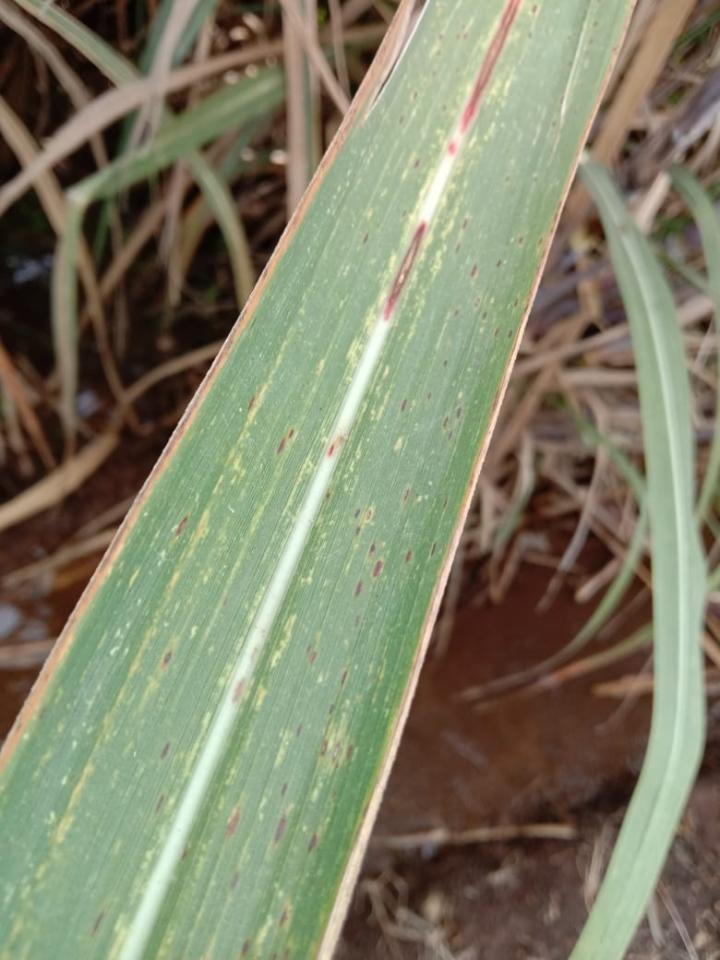RedRot: (441, 0, 525, 165), (378, 203, 437, 327)
Rust: (219, 649, 381, 873), (278, 3, 405, 246), (448, 197, 564, 351), (341, 491, 442, 605), (231, 903, 297, 959), (225, 637, 266, 710), (439, 394, 468, 450), (270, 418, 303, 459), (321, 423, 346, 473), (162, 506, 192, 546), (243, 378, 261, 425), (85, 906, 109, 941), (162, 633, 180, 673), (587, 11, 602, 54), (301, 642, 323, 668), (157, 738, 175, 767), (227, 865, 244, 894), (153, 789, 167, 819), (360, 225, 372, 251), (411, 152, 425, 171), (408, 85, 422, 104)
Yellow: (102, 0, 507, 959), (157, 0, 543, 959), (0, 300, 309, 959), (357, 0, 489, 230), (419, 0, 466, 66)
